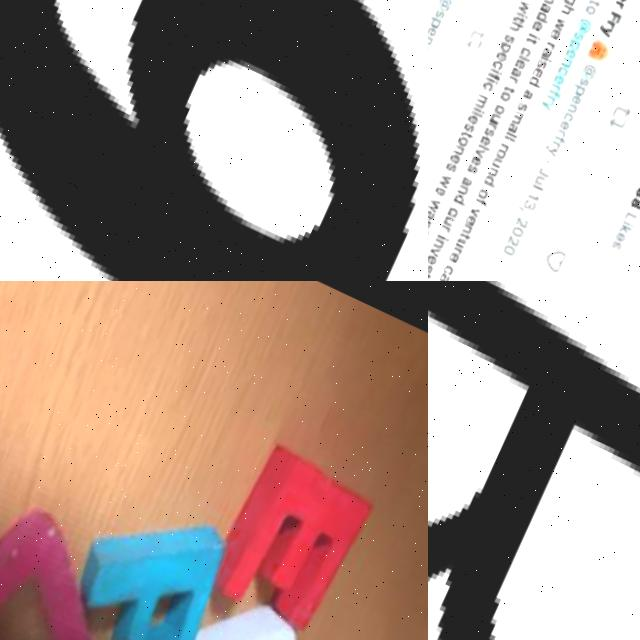0: (501, 242, 518, 257), (510, 225, 526, 238)
1: (525, 190, 540, 200)
2: (505, 233, 522, 248), (514, 215, 530, 228)
3: (521, 197, 537, 210)
5: (636, 175, 640, 190)
8: (626, 194, 640, 211), (631, 183, 640, 202)
9: (0, 0, 428, 281)
A: (541, 45, 554, 58), (506, 120, 519, 133), (521, 88, 535, 100), (539, 2, 551, 13), (509, 66, 521, 77), (460, 176, 472, 187), (437, 271, 449, 281), (428, 208, 435, 221)
C: (481, 80, 495, 93), (519, 44, 532, 57), (563, 110, 574, 122), (442, 265, 454, 276), (493, 58, 504, 70), (557, 65, 568, 76)
D: (526, 73, 544, 89), (534, 9, 551, 24), (482, 174, 498, 187), (452, 193, 468, 206)
E: (185, 428, 392, 640), (531, 17, 544, 31), (466, 112, 480, 125), (549, 26, 562, 39), (531, 65, 544, 78), (495, 49, 508, 62), (447, 250, 460, 262), (558, 119, 570, 131), (553, 73, 565, 85), (449, 152, 461, 164), (613, 230, 625, 241), (570, 93, 581, 105), (565, 48, 577, 59), (464, 214, 476, 225), (515, 57, 526, 69), (479, 134, 491, 145), (469, 155, 481, 166), (434, 185, 446, 196), (428, 253, 436, 264), (428, 25, 436, 36)
F: (607, 9, 623, 22), (552, 134, 567, 145), (548, 87, 563, 98), (473, 196, 488, 206), (487, 70, 502, 80)
G: (560, 0, 578, 6)
H: (560, 3, 576, 16), (509, 20, 525, 33)
I: (527, 31, 542, 41), (485, 75, 500, 84), (620, 218, 634, 227), (435, 233, 449, 242), (515, 10, 529, 19), (489, 67, 503, 76), (472, 105, 486, 114), (540, 55, 552, 63)
J: (536, 166, 553, 179)
K: (616, 222, 632, 236)
L: (622, 210, 637, 222), (530, 181, 544, 190), (505, 129, 519, 138), (503, 133, 517, 142), (471, 108, 485, 117), (477, 143, 491, 151), (518, 54, 531, 61)
M: (511, 108, 524, 124), (475, 93, 488, 109), (544, 0, 557, 4)
N: (562, 56, 573, 68), (453, 144, 465, 155), (567, 102, 578, 113), (487, 166, 498, 177), (461, 223, 472, 234), (458, 184, 469, 195), (433, 238, 444, 249), (428, 33, 434, 46), (428, 217, 431, 228)
O: (493, 101, 506, 114), (445, 206, 458, 217), (585, 4, 596, 16), (495, 148, 507, 159), (499, 90, 511, 101), (477, 188, 488, 199), (458, 135, 469, 146)
P: (35, 467, 250, 640), (565, 36, 583, 51), (428, 13, 443, 28), (572, 82, 587, 96), (497, 40, 513, 53)
Q: (124, 579, 322, 640)
R: (428, 281, 640, 640), (605, 17, 616, 28), (545, 40, 557, 50), (451, 245, 463, 255), (550, 139, 561, 148), (507, 74, 518, 83), (486, 120, 497, 129), (556, 128, 566, 137), (551, 82, 561, 91), (545, 93, 555, 102), (499, 141, 509, 150), (440, 224, 450, 233), (614, 0, 624, 8)
S: (516, 99, 529, 112), (466, 163, 479, 174), (503, 33, 516, 44), (610, 238, 622, 249), (578, 76, 590, 87), (482, 126, 494, 137), (463, 122, 475, 133), (445, 162, 457, 173), (434, 8, 446, 19), (573, 30, 584, 41), (536, 58, 547, 69), (428, 260, 433, 272)
T: (525, 34, 538, 46), (513, 13, 526, 24), (458, 231, 471, 241), (503, 84, 516, 94), (461, 129, 474, 139), (587, 0, 600, 7), (428, 269, 431, 280)
U: (0, 481, 128, 640), (491, 156, 504, 167), (454, 237, 466, 248), (489, 112, 501, 123), (442, 215, 454, 226), (534, 174, 545, 185)
V: (468, 206, 481, 217), (429, 245, 441, 256), (474, 147, 485, 158)
W: (553, 15, 568, 32), (438, 172, 453, 189), (516, 0, 531, 14), (428, 196, 440, 212)
Y: (597, 23, 614, 38), (543, 144, 559, 157), (538, 98, 554, 111)
